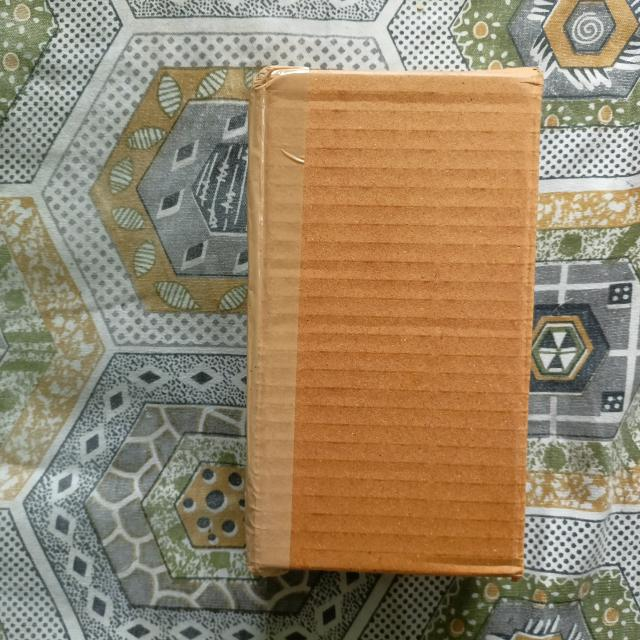box: (246, 69, 545, 581)
